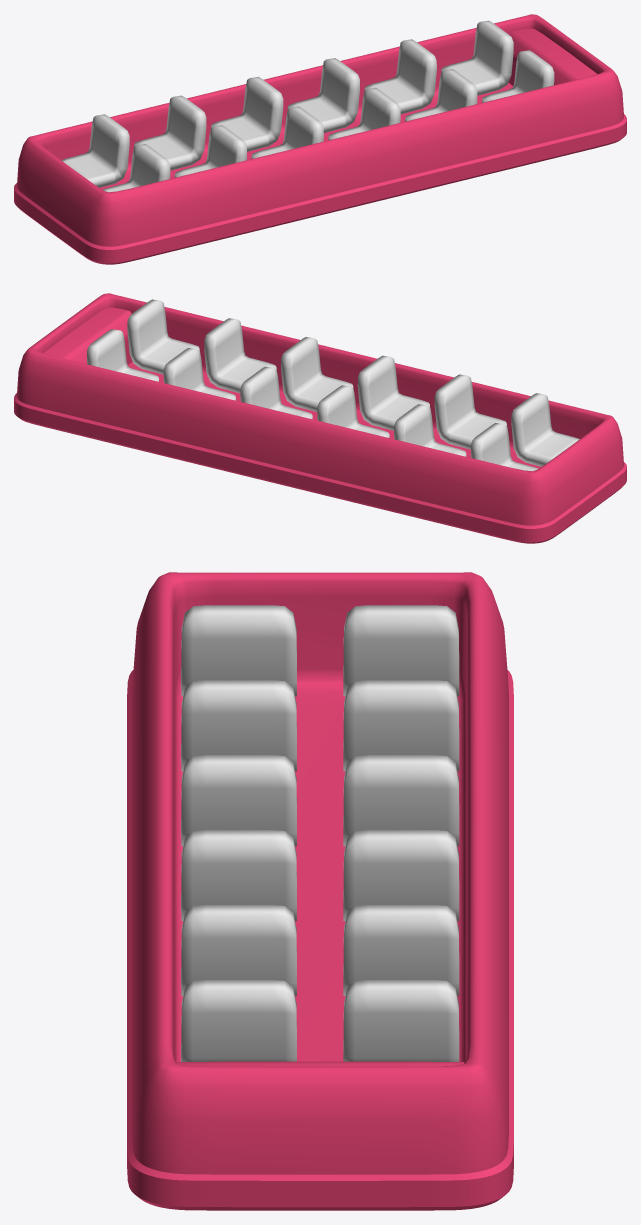
File: car_l_3_T2.fbx
3 renders of one model, top to bottom at view 1: azimuth 30°, elevation 25°; view 2: azimuth 150°, elevation 25°; view 3: azimuth 270°, elevation 25°, orthographic. The views are drawn at different scales.
Parts seen in each view (by area): view 1: Cube.124, Cube.113; view 2: Cube.124, Cube.113; view 3: Cube.124, Cube.113.
Boxes of the visible parts, left/top/right/bottom form: Cube.124: left=14, top=14, right=626, bottom=264; Cube.113: left=61, top=20, right=554, bottom=192; Cube.124: left=14, top=293, right=626, bottom=543; Cube.113: left=87, top=299, right=579, bottom=471; Cube.124: left=127, top=572, right=513, bottom=1210; Cube.113: left=181, top=605, right=459, bottom=1061.
Bounding box in the file's own units: 590 × 83.38 × 184.
